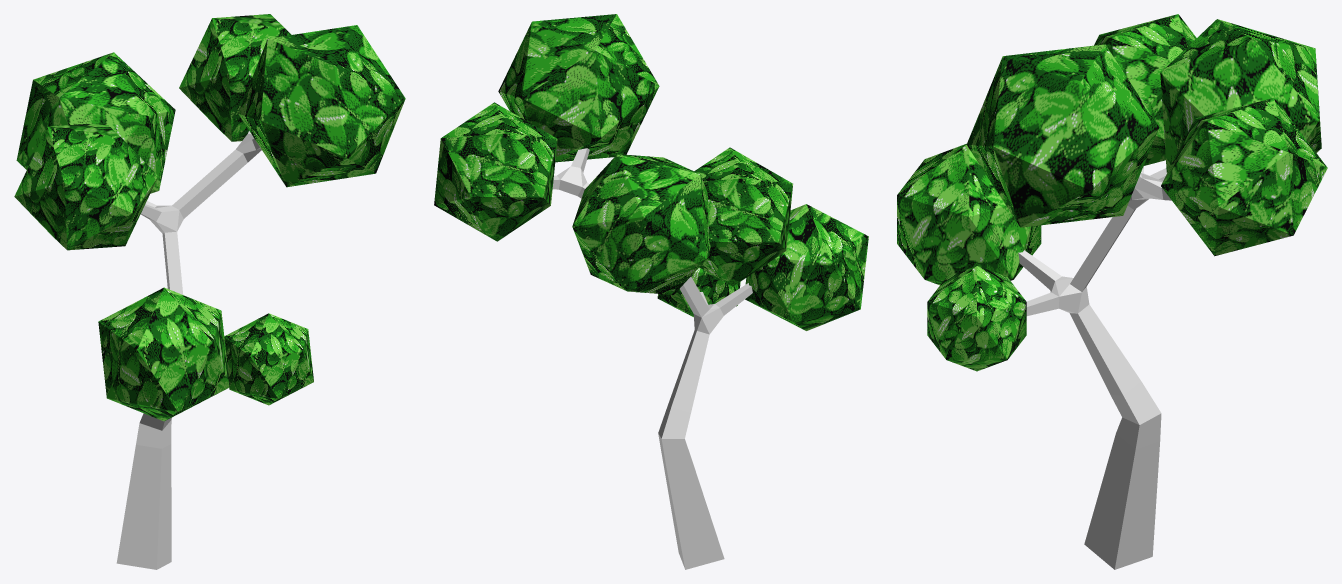
The model's file is tree2.fbx.
3 views of the same model, side by side, from view 1: azimuth 30°, elevation 25°; view 2: azimuth 150°, elevation 25°; view 3: azimuth 270°, elevation 25° (orthographic). The views are drawn at different scales.
Parts seen in each view (by area): view 1: Icosphere.005, Icosphere, Icosphere.002, Icosphere.003, Cube, Icosphere.004, Icosphere.001; view 2: Icosphere.005, Icosphere.003, Icosphere.004, Icosphere, Cube, Icosphere.002, Icosphere.001; view 3: Icosphere.005, Icosphere.004, Cube, Icosphere.003, Icosphere, Icosphere.001, Icosphere.002.
Part boxes in pixels (left/top/right/bottom): Icosphere.005: left=238, top=25, right=405, bottom=187; Icosphere: left=98, top=287, right=229, bottom=421; Icosphere.002: left=14, top=123, right=158, bottom=250; Icosphere.003: left=16, top=52, right=175, bottom=193; Cube: left=116, top=131, right=261, bottom=569; Icosphere.004: left=179, top=14, right=291, bottom=141; Icosphere.001: left=224, top=313, right=313, bottom=405; Icosphere.005: left=498, top=14, right=659, bottom=162; Icosphere.003: left=572, top=154, right=710, bottom=294; Icosphere.004: left=434, top=102, right=557, bottom=241; Icosphere: left=745, top=204, right=868, bottom=330; Cube: left=552, top=148, right=752, bottom=569; Icosphere.002: left=694, top=147, right=792, bottom=286; Icosphere.001: left=657, top=267, right=740, bottom=317; Icosphere.005: left=966, top=44, right=1159, bottom=227; Icosphere.004: left=1161, top=98, right=1327, bottom=256; Cube: left=1018, top=166, right=1171, bottom=569; Icosphere.003: left=1160, top=19, right=1321, bottom=172; Icosphere: left=897, top=143, right=1041, bottom=285; Icosphere.001: left=927, top=266, right=1026, bottom=371; Icosphere.002: left=1094, top=14, right=1196, bottom=165.
Size of the model in its own units: 363 by 529 by 356.
7 materials, 6 textured.
